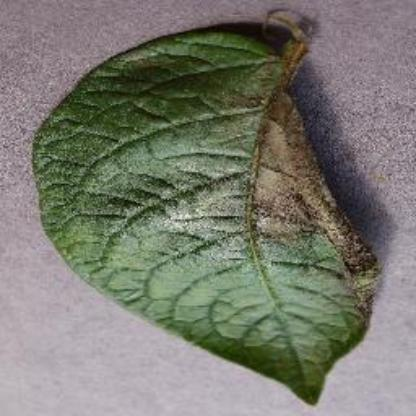Late-Blight: (24, 15, 404, 409)
